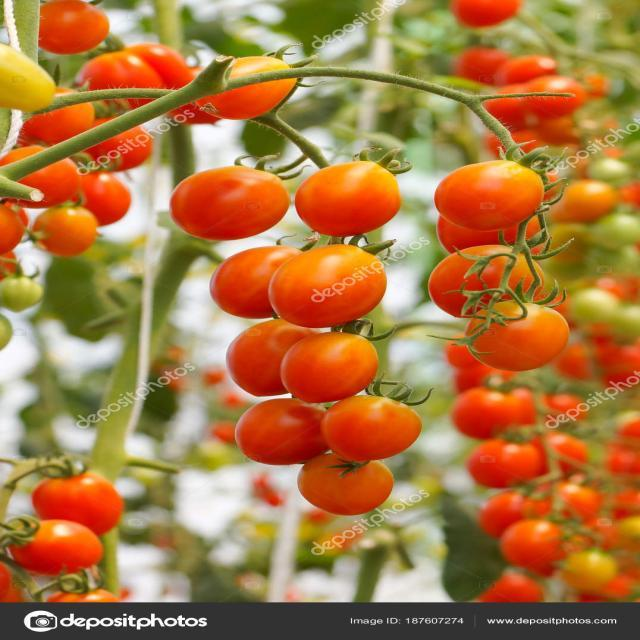sari: (288, 240, 402, 348)
